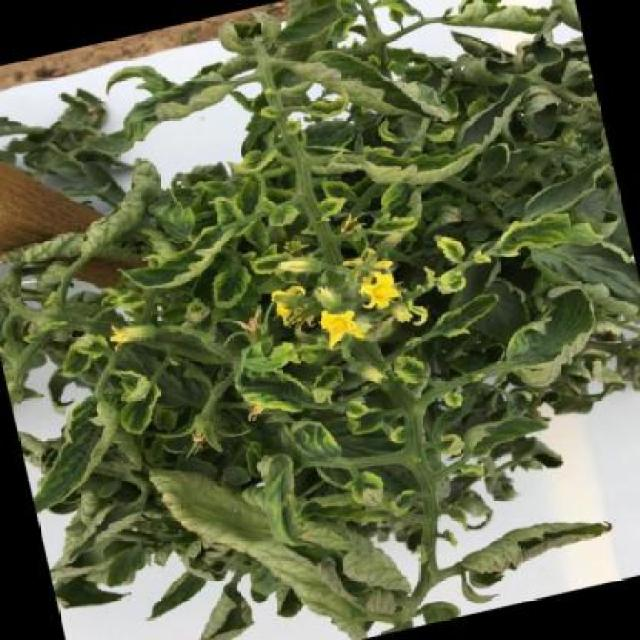Healthy Leaf: (316, 101, 525, 206), (482, 270, 615, 407), (107, 192, 264, 304), (474, 189, 631, 292), (217, 325, 334, 432), (238, 387, 355, 481), (91, 360, 169, 451), (196, 257, 261, 314)
